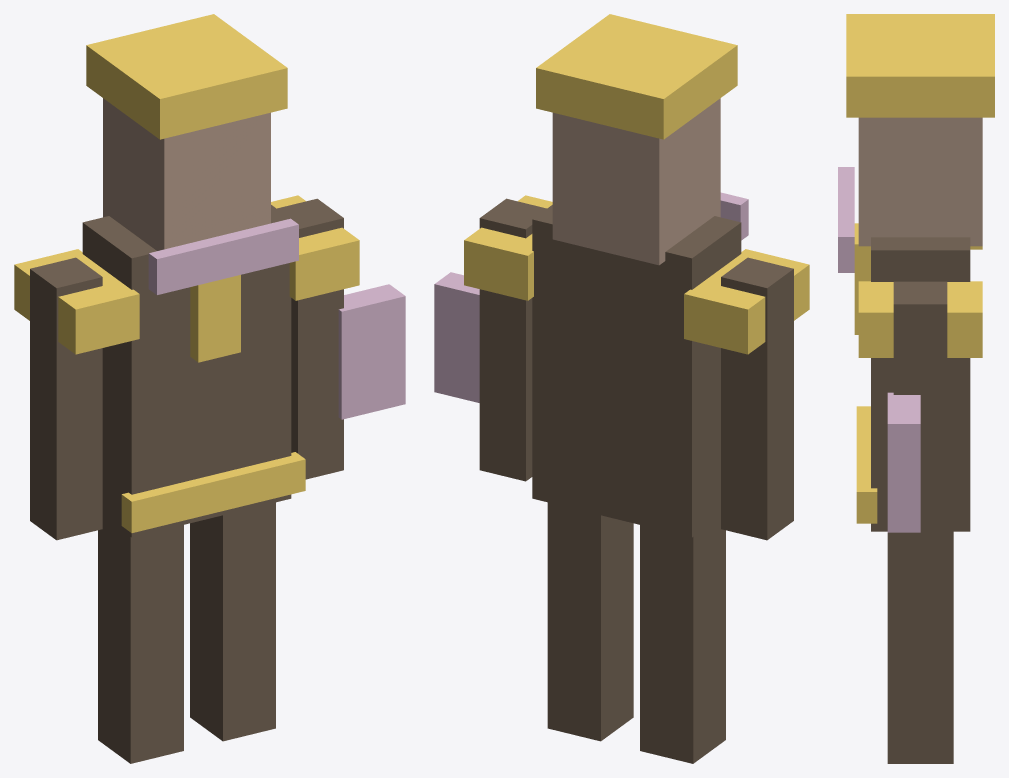
Rendered from 15_bex_ashvein_specialist_at_tactical.glb.
3 views of the same model, side by side, from view 1: azimuth 30°, elevation 25°; view 2: azimuth 150°, elevation 25°; view 3: azimuth 270°, elevation 25° (orthographic).
Parts seen in each view (by area): view 1: Bex Ashvein, Specialist at Tactical; view 2: Bex Ashvein, Specialist at Tactical; view 3: Bex Ashvein, Specialist at Tactical.
Part boxes in pixels (box(x1,y1,x2,y2)): Bex Ashvein, Specialist at Tactical: box(14, 14, 405, 763); Bex Ashvein, Specialist at Tactical: box(434, 14, 809, 763); Bex Ashvein, Specialist at Tactical: box(838, 14, 994, 763).
Bounding box in the file's own units: 0.9055 × 1.69 × 0.3529.
